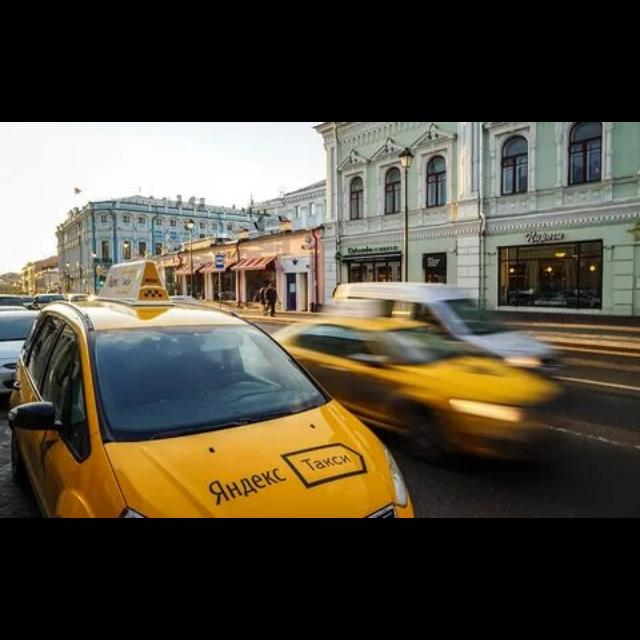taxi: (7, 259, 416, 517)
